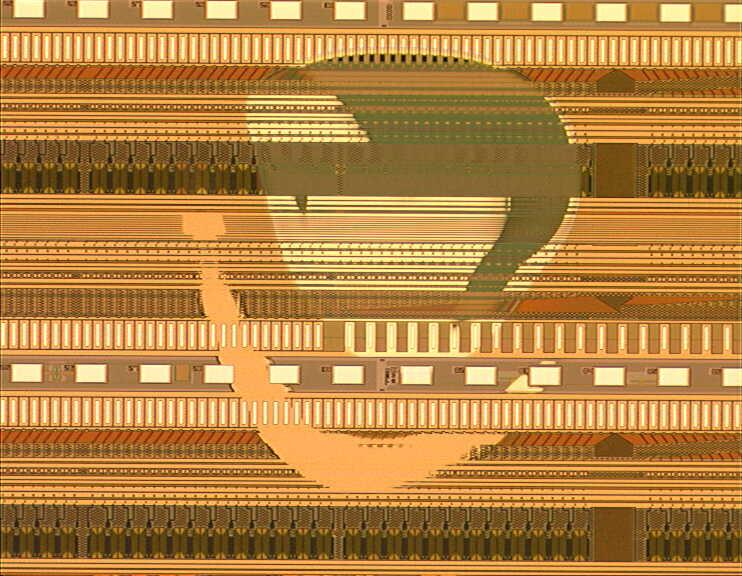BLOCK ETCH: (177, 43, 587, 499)
